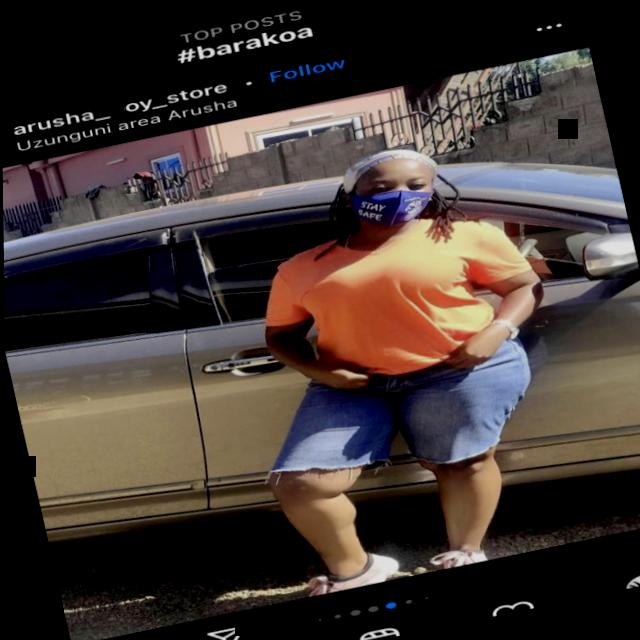Mask: (342, 154, 444, 238)
